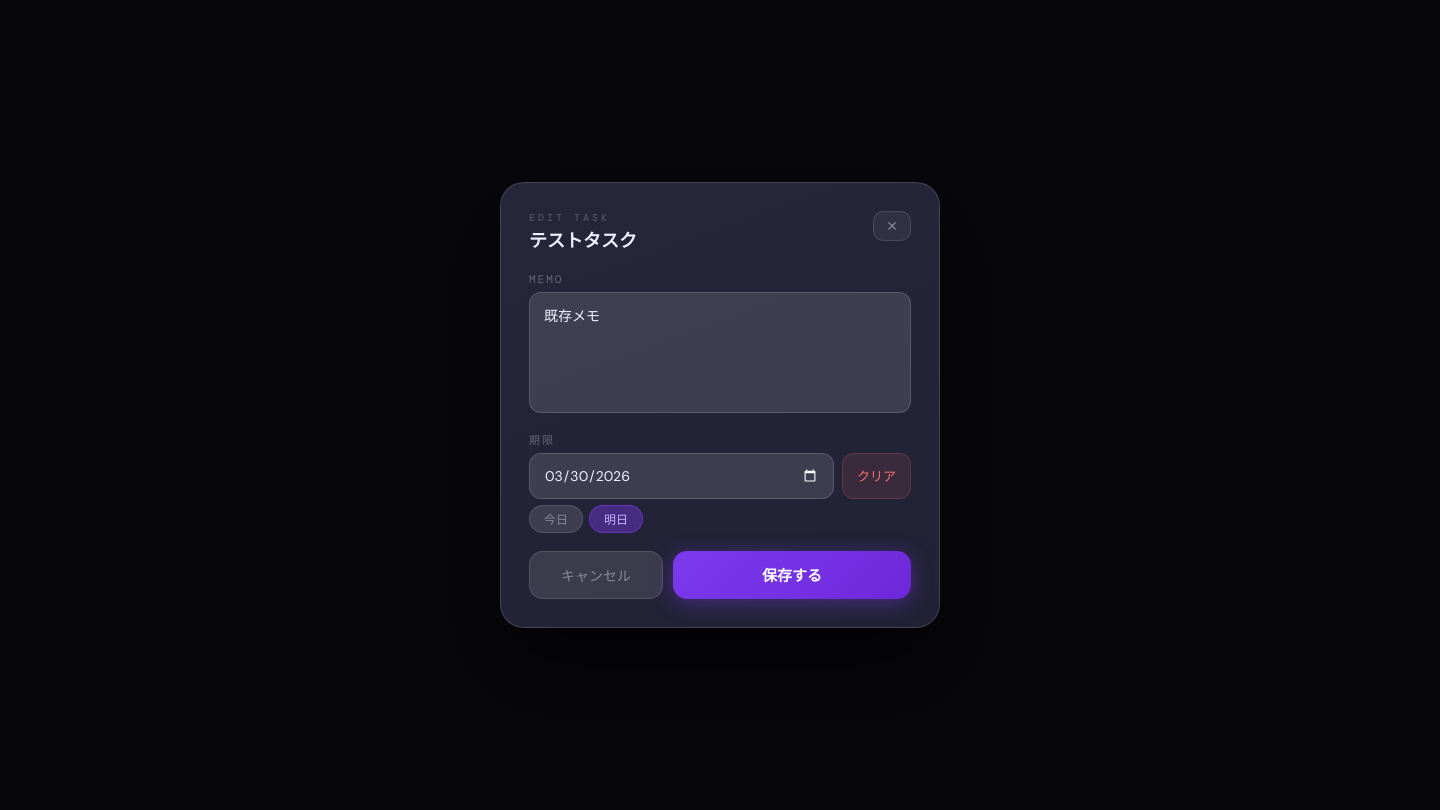
Test: EditModal › clears the date when クリア is clicked
What coordinates should you click on to do the following:
click the button "クリア"
I would click on:
 (876, 476)
Its box is [842,453,911,499].
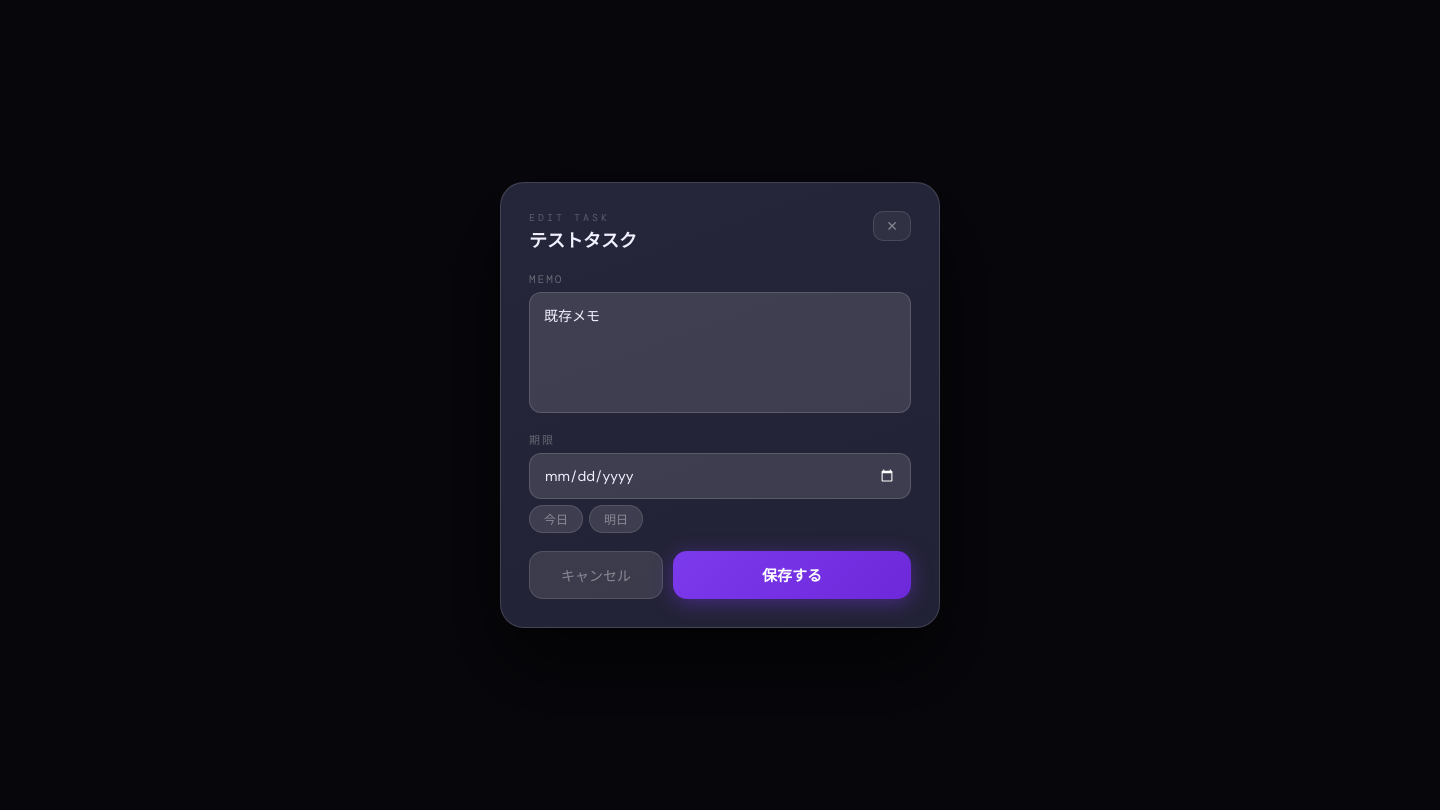
Expected: the field showing "2026-03-30" is not shown
Now the button "クリア" is gone
